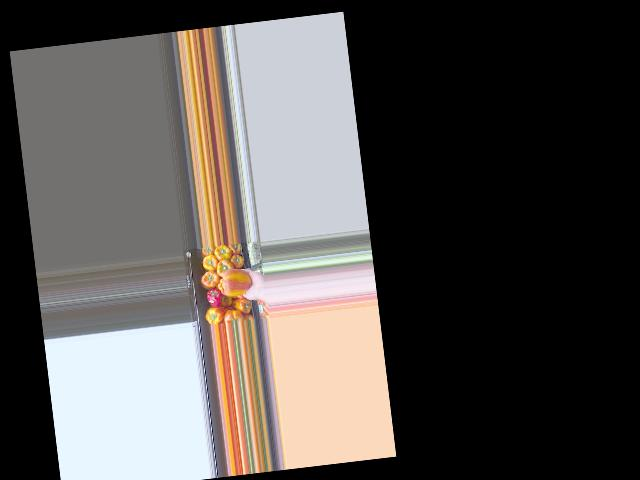bell_pepper: (233, 296, 250, 316)
